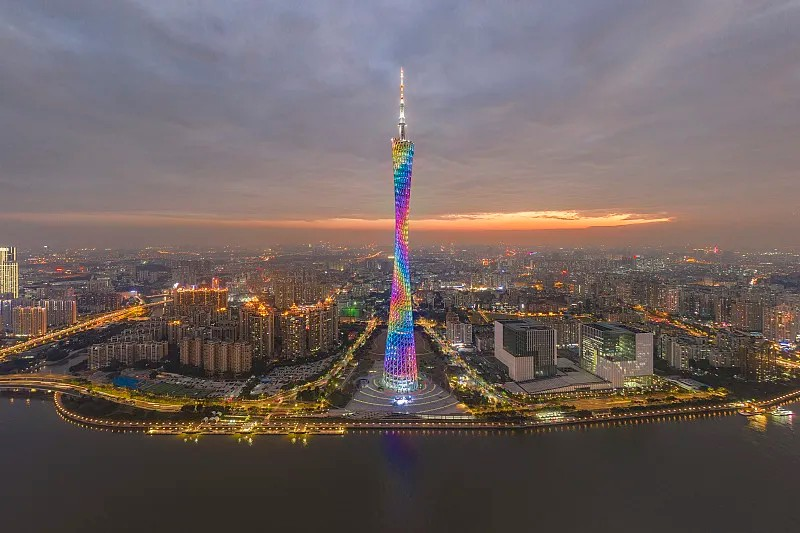Canton: (376, 62, 426, 392)
